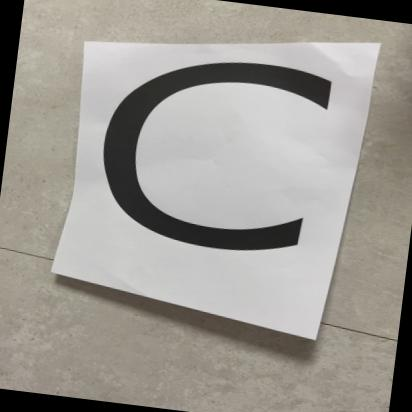seat: (73, 37, 378, 326)
